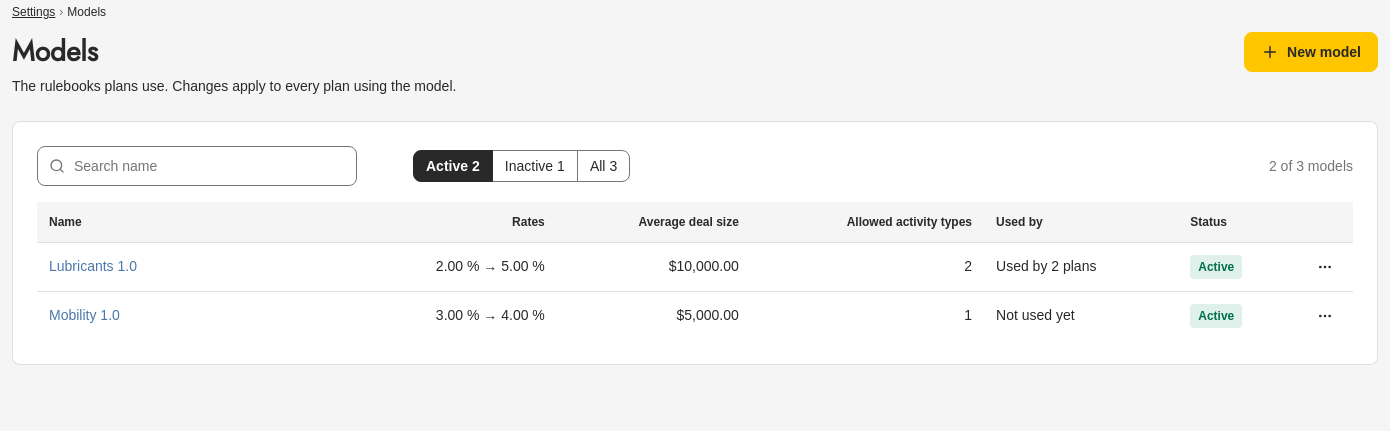
ModelsPage: the list (FR-002) › filters by status and searches by name, keeping both in the address
Expected: the table is shown, [37,202,1353,340]
Click the button "Inactive 1". click: (535, 166)
box: [492,150,578,182]
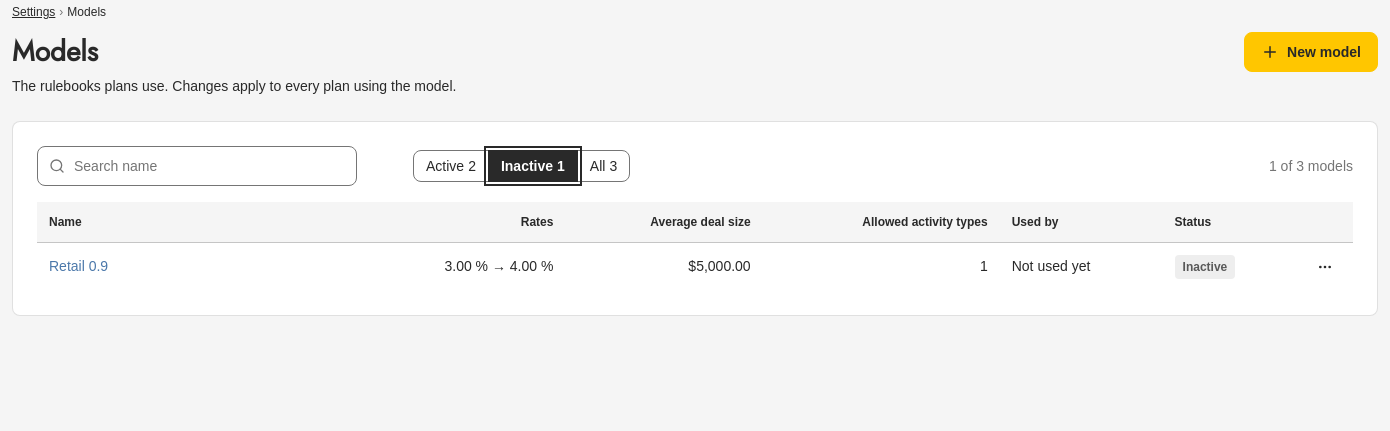
Expected: the button "Retail 0.9" is shown, [49,256,108,277]
Expected: the button "Lubricants 1.0" is gone
Click the button "All 3". click: (604, 166)
box: [577,150,630,182]
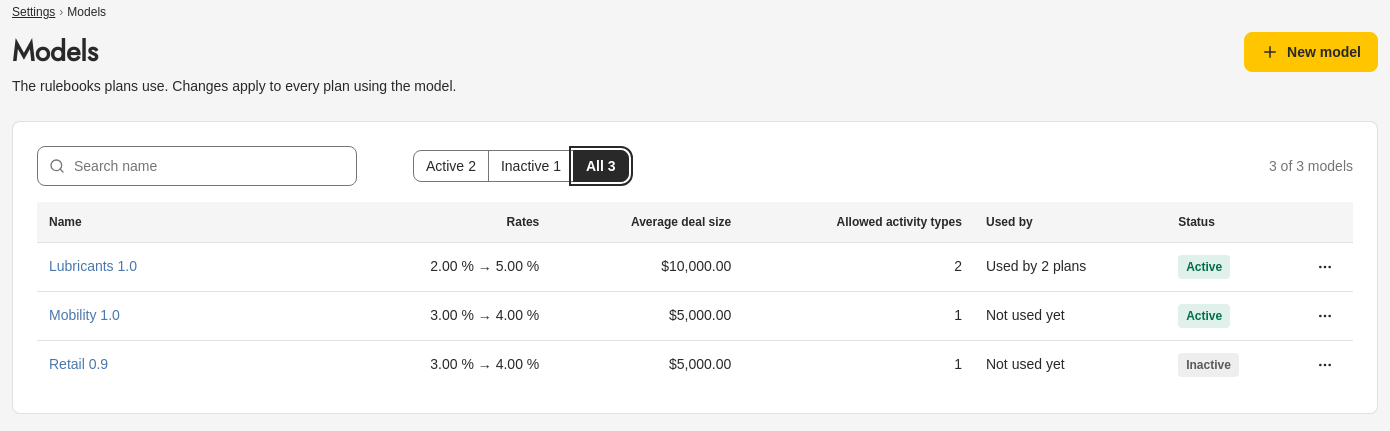
Type "mob" into the search field named "Search models". click: (197, 166)
box: [37,146,357,186]
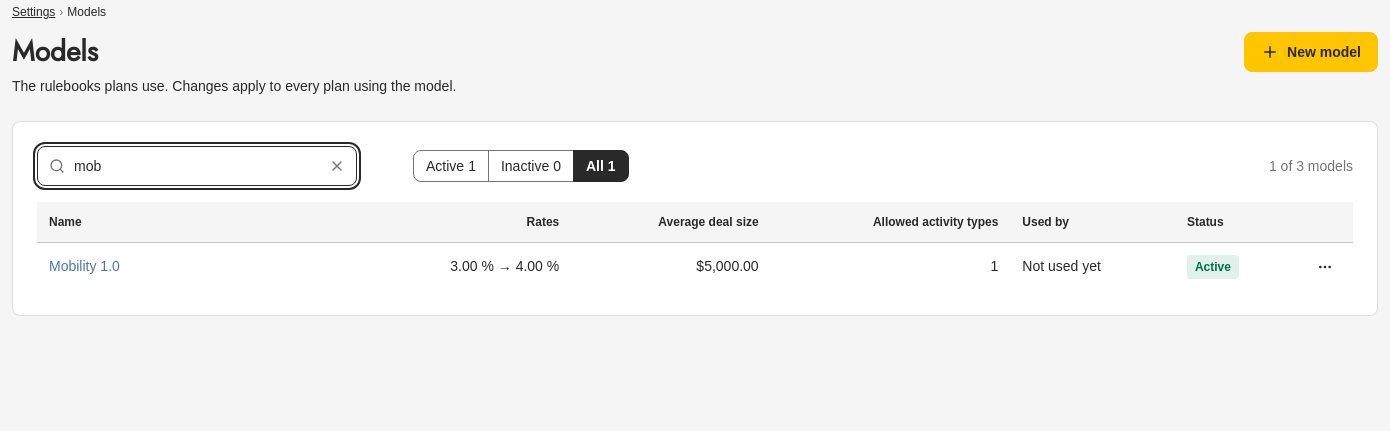
Expected: the text "1 of 3 models" is shown, [1269,156,1353,176]
